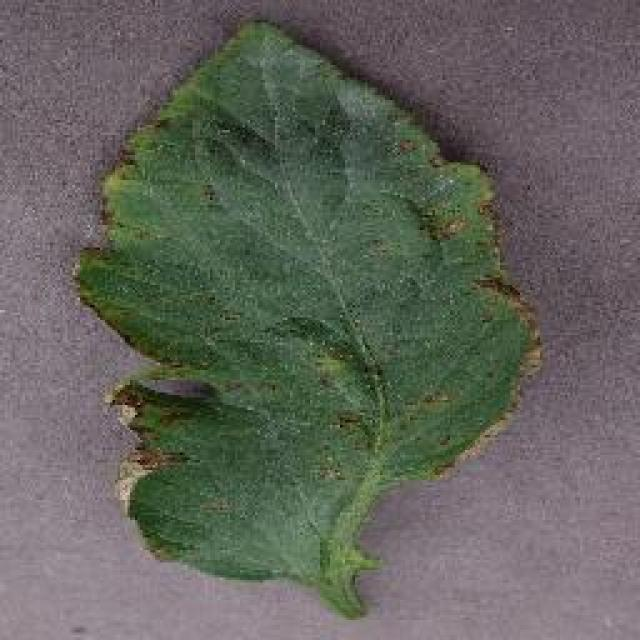Tomato bacterial spot leaf: (80, 26, 530, 614)
